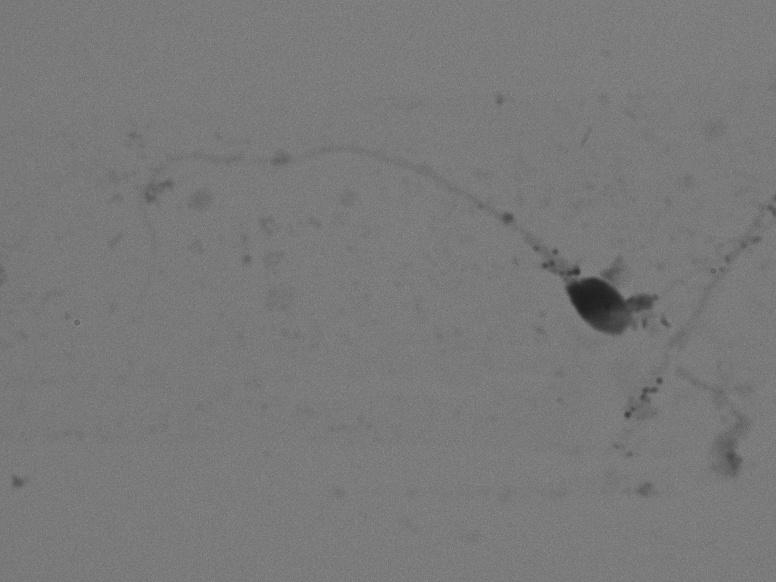Abnormal: (123, 110, 654, 389)
